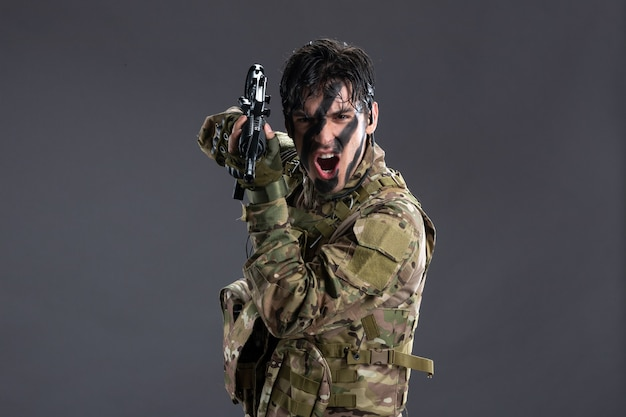gun: (231, 64, 273, 202)
